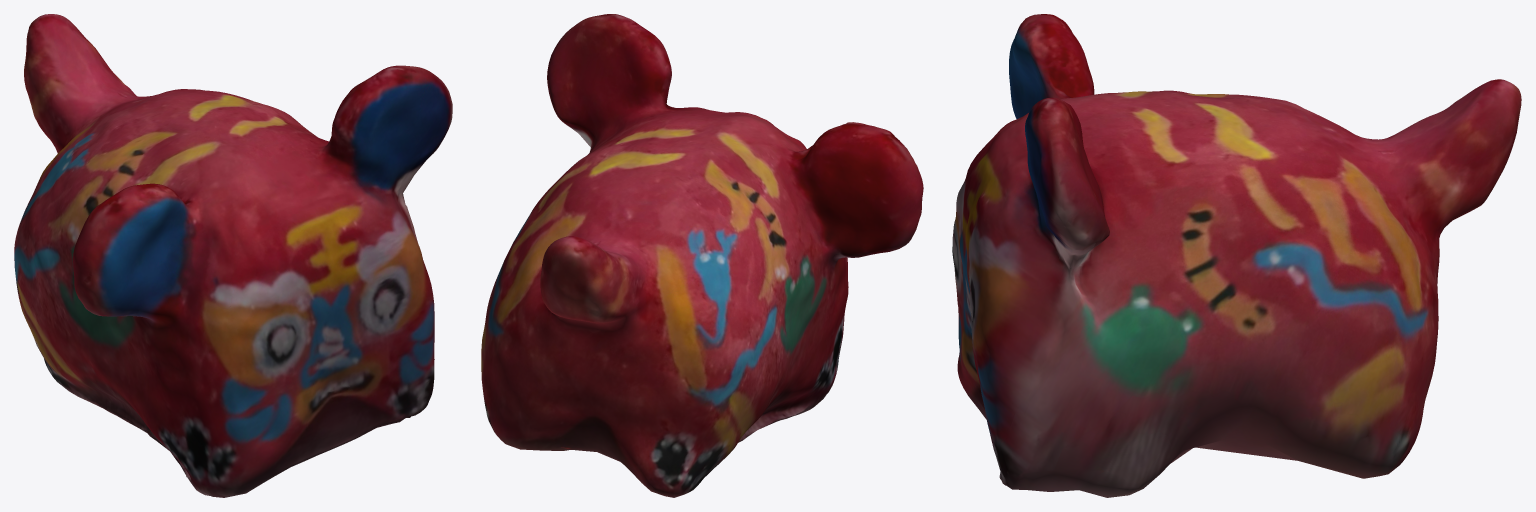
The picture shows the model from 3 angles, left to right: view 1: azimuth 30°, elevation 25°; view 2: azimuth 150°, elevation 25°; view 3: azimuth 270°, elevation 25°; orthographic projection. The views are drawn at different scales.
Size of the model in its own units: 0.3606 by 0.3347 by 0.4052.
1 material, 1 textured.
